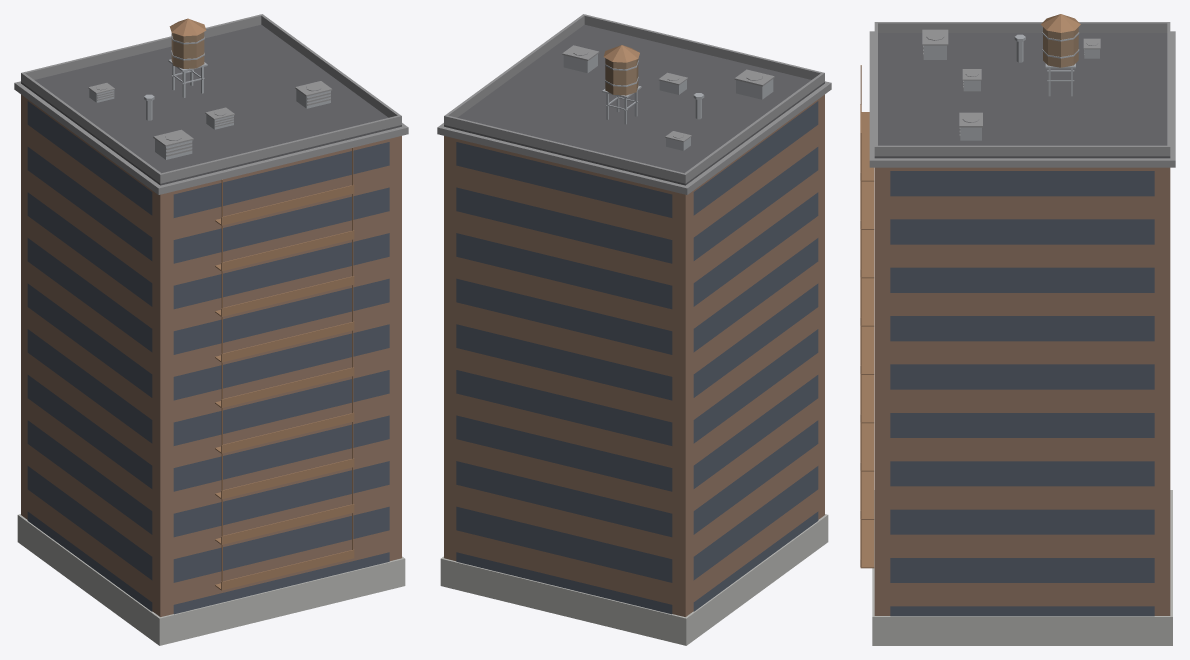
File: bld_tenement_04.glb
3 renders of one model, left to right at view 1: azimuth 30°, elevation 25°; view 2: azimuth 150°, elevation 25°; view 3: azimuth 270°, elevation 25°, orthographic. The views are drawn at different scales.
Parts seen in each view (by area): view 1: bld_tenement_04; view 2: bld_tenement_04; view 3: bld_tenement_04.
Part boxes in pixels (<box>): bld_tenement_04: <box>14,14,408,645</box>; bld_tenement_04: <box>437,14,831,645</box>; bld_tenement_04: <box>860,14,1175,645</box>.
Size of the model in its own units: 17.6 by 35.88 by 18.12.
